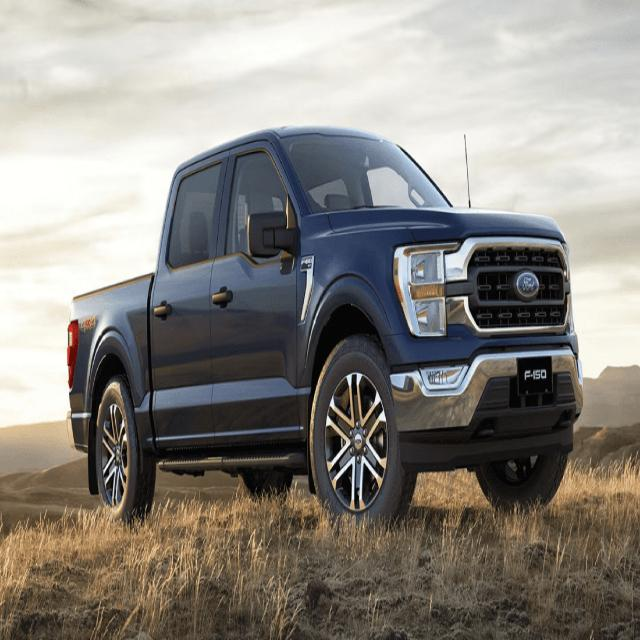CMT: (53, 122, 573, 533)
